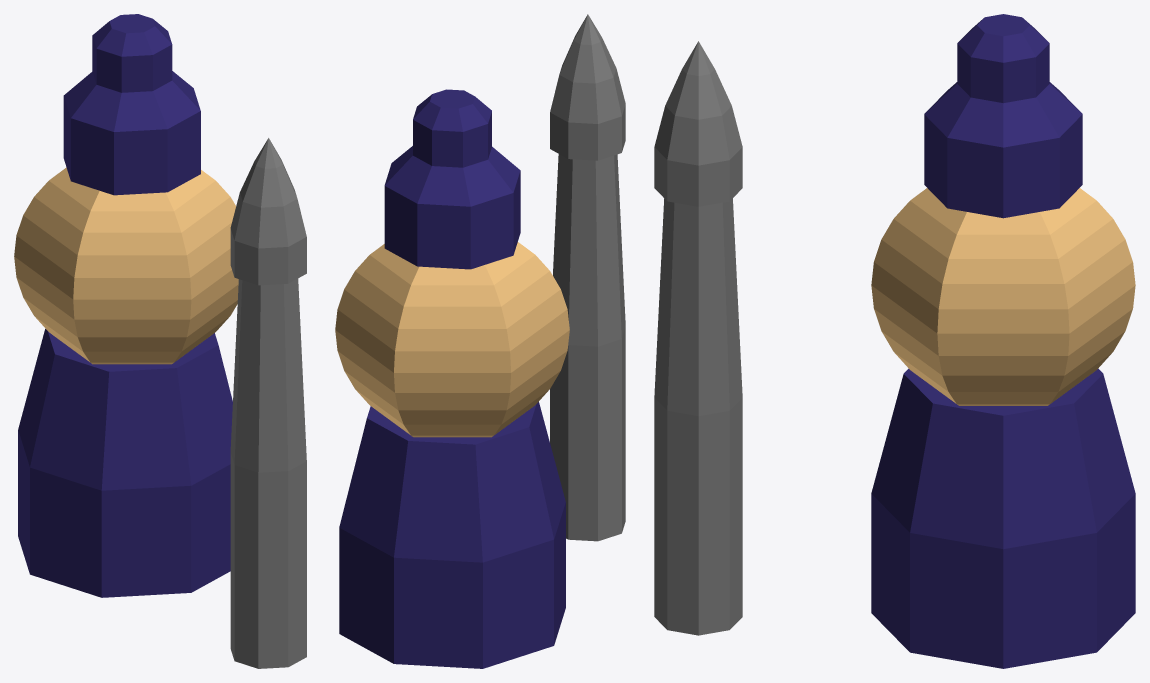
Rendered from guard.fbx.
3 views of the same model, side by side, from view 1: azimuth 30°, elevation 25°; view 2: azimuth 150°, elevation 25°; view 3: azimuth 270°, elevation 25° (orthographic). The views are drawn at different scales.
Parts seen in each view (by area): view 1: Cylinder, Sphere, Cylinder.003, Cylinder.001, Cylinder.004, Cylinder.002; view 2: Cylinder, Sphere, Cylinder.003, Cylinder.001, Cylinder.004, Cylinder.002; view 3: Cylinder, Sphere, Cylinder.003, Cylinder.001, Cylinder.004, Cylinder.002.
Boxes of the visible parts, x1=… form: Cylinder: x1=18, y1=329, x2=232, y2=597; Sphere: x1=14, y1=167, x2=238, y2=364; Cylinder.003: x1=230, y1=278, x2=306, y2=668; Cylinder.001: x1=63, y1=71, x2=200, y2=195; Cylinder.004: x1=230, y1=138, x2=306, y2=285; Cylinder.002: x1=92, y1=14, x2=172, y2=92; Cylinder: x1=339, y1=402, x2=565, y2=668; Sphere: x1=335, y1=242, x2=569, y2=437; Cylinder.003: x1=550, y1=154, x2=625, y2=541; Cylinder.001: x1=384, y1=146, x2=520, y2=269; Cylinder.004: x1=550, y1=14, x2=625, y2=160; Cylinder.002: x1=413, y1=89, x2=491, y2=167; Cylinder: x1=871, y1=368, x2=1135, y2=668; Sphere: x1=871, y1=188, x2=1135, y2=405; Cylinder.003: x1=654, y1=198, x2=742, y2=635; Cylinder.001: x1=924, y1=82, x2=1082, y2=218; Cylinder.004: x1=654, y1=41, x2=742, y2=206; Cylinder.002: x1=957, y1=14, x2=1049, y2=103.
Bounding box in the file's own units: 2 × 4.94 × 3.64.
